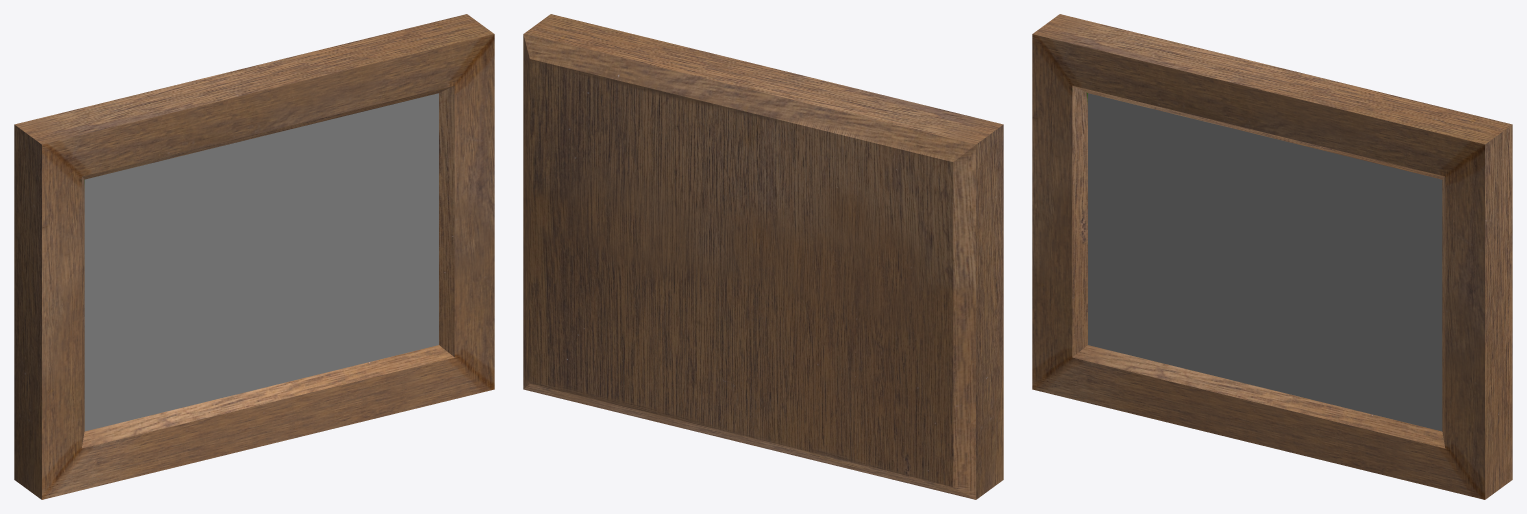
The model's file is Frame1.FBX.
The picture shows the model from 3 angles, left to right: view 1: azimuth 30°, elevation 25°; view 2: azimuth 150°, elevation 25°; view 3: azimuth 330°, elevation 25°; orthographic projection.
Visible parts, largest first — view 1: Box001; view 2: Box001; view 3: Box001.
Boxes of the visible parts, bbox=[...] form: Box001: bbox=[14, 14, 494, 499]; Box001: bbox=[523, 14, 1003, 499]; Box001: bbox=[1032, 14, 1512, 499].
Size of the model in its own units: 200 by 150 by 27.24.
